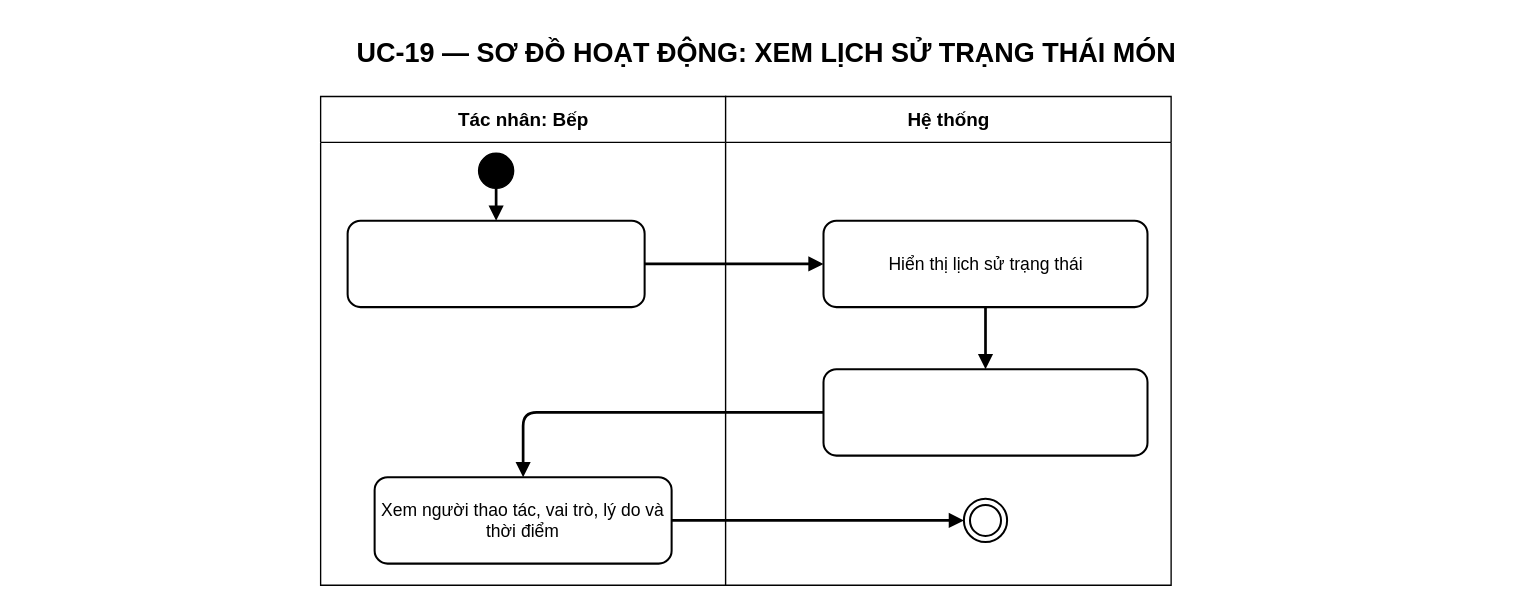
This 1531x609 diagram has some shape labels left out. Each missing label, with the centre of its shape:
"Mở chi tiết món trong phiếu bếp" goes at point (495, 263).
"Sắp xếp các mốc trạng thái theo thời gian" goes at point (985, 412).
